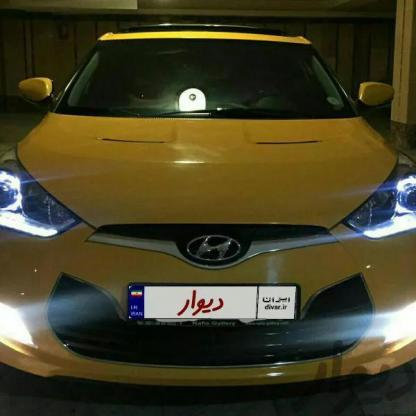Car: (0, 33, 405, 411)
